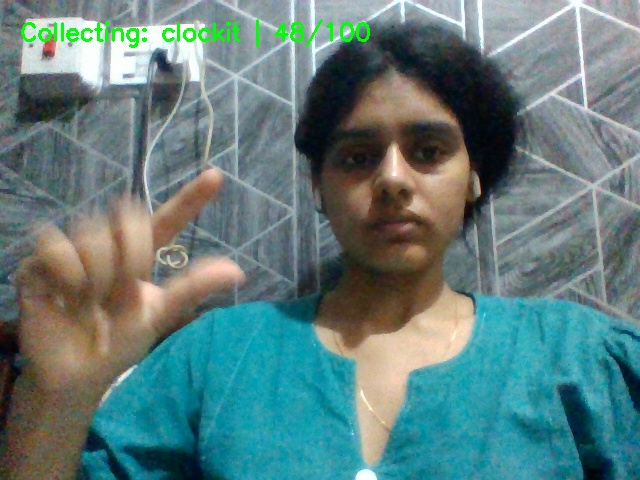clockit: (17, 163, 254, 362)
